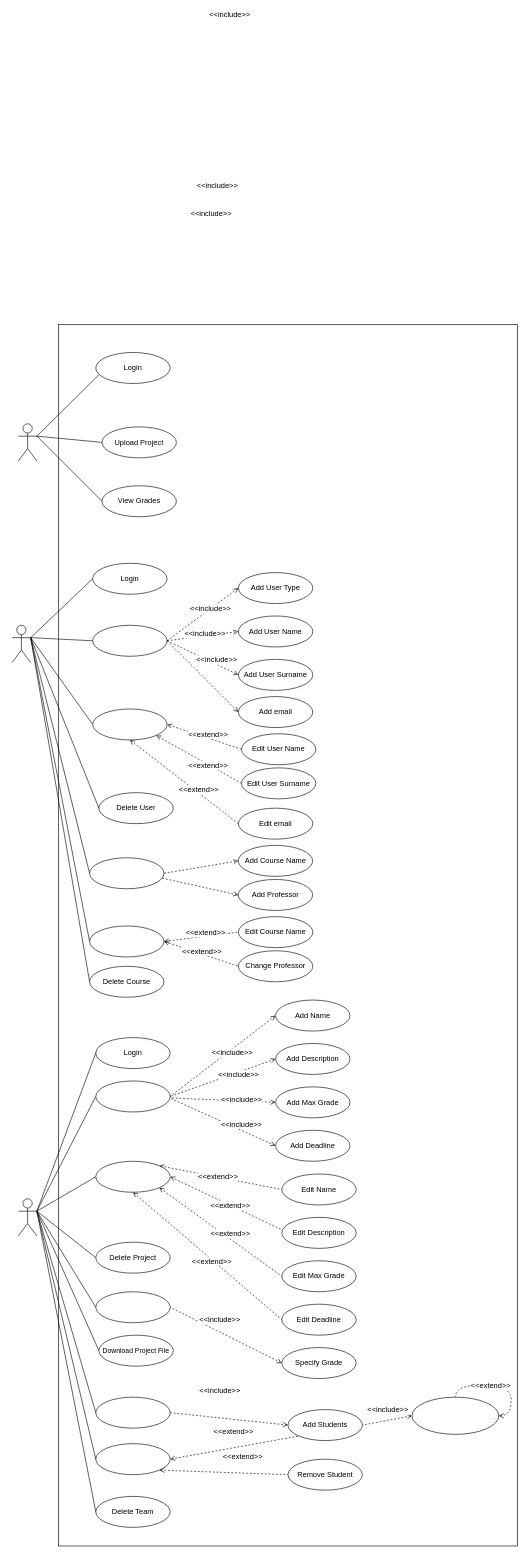
Some shapes in this 528 by 1557 pixel diagram are drawn without their labels. Here are the shapes that lost their labels. From the top down, the centre of each, then its label:
pixel 27 442: Student
pixel 21 643: Admin
pixel 129 640: Create User
pixel 129 724: Edit User
pixel 126 873: Create Course
pixel 126 941: Edit Course
pixel 132 1096: Create Project
pixel 132 1176: Edit Project
pixel 27 1217: Professor
pixel 132 1307: Grade Project
pixel 132 1412: Create Team
pixel 455 1415: Specify Student's Registration Number
pixel 132 1459: Edit Team
